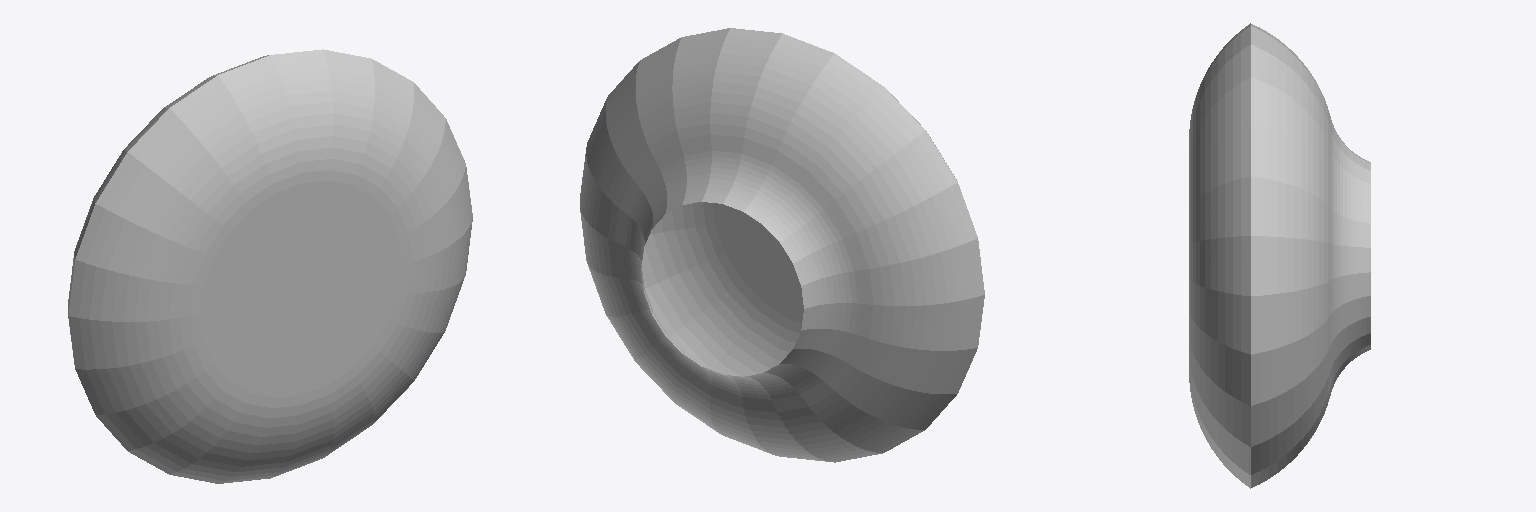
File: original-24.obj
3 views of the same model, side by side, from view 1: azimuth 30°, elevation 25°; view 2: azimuth 150°, elevation 25°; view 3: azimuth 270°, elevation 25° (orthographic).
Visible parts, largest first — view 1: mesh13/mesh13-geometry#mesh13-geometry; view 2: mesh13/mesh13-geometry#mesh13-geometry; view 3: mesh13/mesh13-geometry#mesh13-geometry.
Boxes of the visible parts, <box> form: mesh13/mesh13-geometry#mesh13-geometry: <box>68,49,472,483</box>; mesh13/mesh13-geometry#mesh13-geometry: <box>580,28,984,462</box>; mesh13/mesh13-geometry#mesh13-geometry: <box>1189,23,1370,488</box>.
Bounding box in the file's own units: 0.025 × 0.025 × 0.0097.